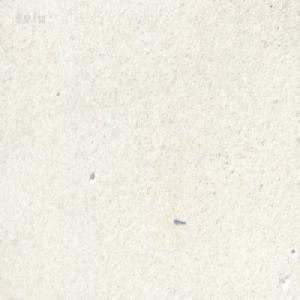Nail: (173, 215, 186, 223)
